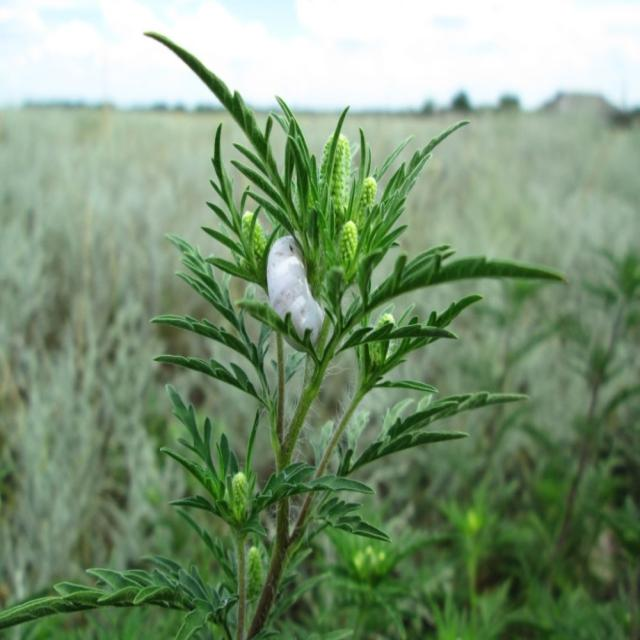ambrosia: (187, 434, 280, 616), (309, 111, 378, 331), (197, 147, 284, 311)
